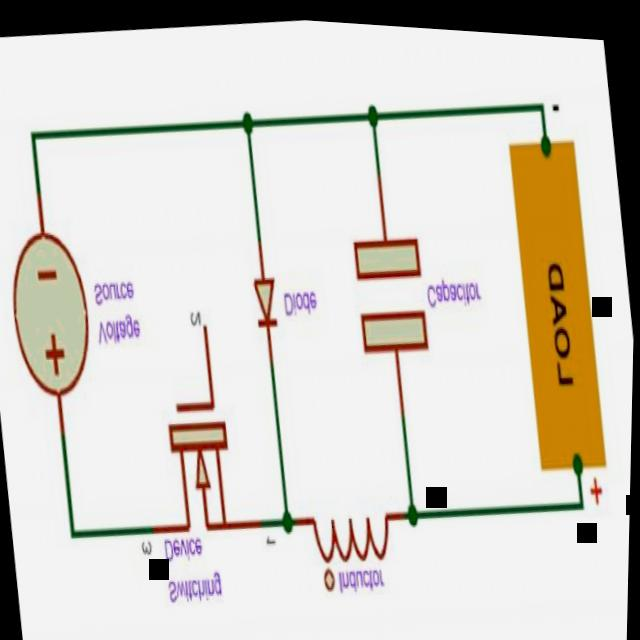capacitor: (336, 197, 446, 380)
diode: (243, 256, 295, 355)
inductor: (299, 462, 410, 600)
mosfet: (139, 292, 259, 557)
node: (234, 96, 263, 145), (403, 481, 427, 535), (278, 496, 303, 543), (361, 87, 387, 132)
resistor: (493, 106, 628, 486)
source: (1, 211, 106, 424)
